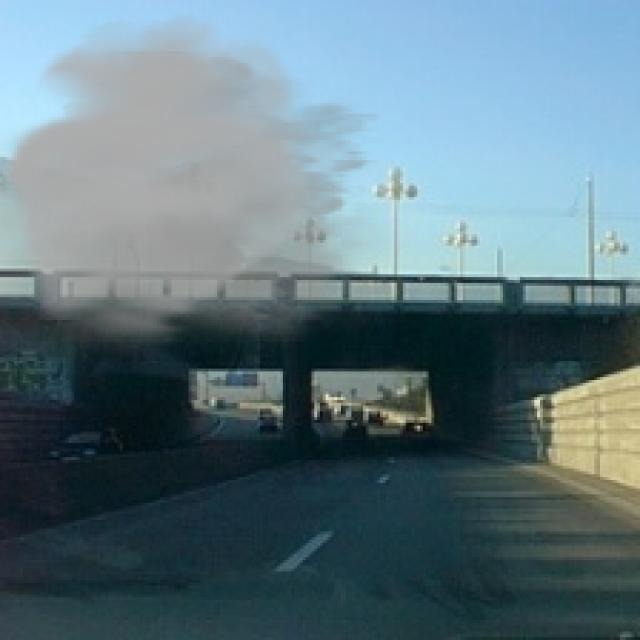smoke: (0, 14, 420, 366)
